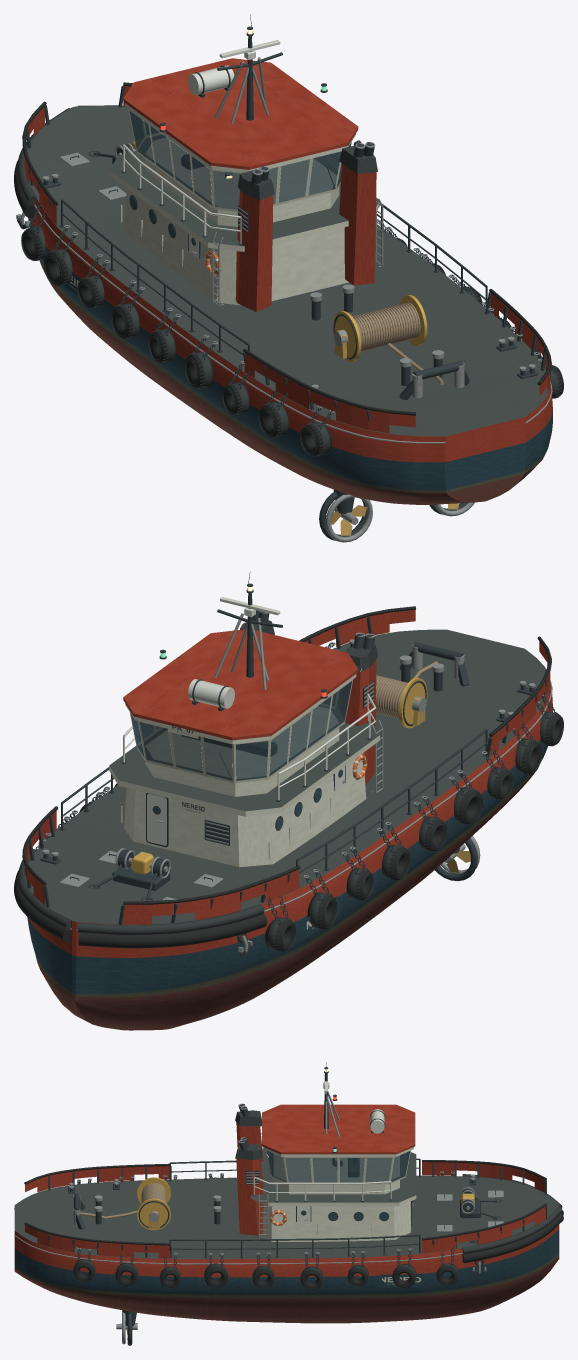
Rendered from tug.glb.
3 views of the same model, one above another, from view 1: azimuth 30°, elevation 25°; view 2: azimuth 150°, elevation 25°; view 3: azimuth 270°, elevation 25° (orthographic). The views are drawn at different scales.
Visible parts, largest first — view 1: tug_assembly; view 2: tug_assembly; view 3: tug_assembly.
Part boxes in pixels (box(x1,y1,x2,y2)): tug_assembly: box(14, 14, 563, 542); tug_assembly: box(14, 571, 563, 1030); tug_assembly: box(14, 1062, 563, 1345).
Bounding box in the file's own units: 9.9 × 13.34 × 24.83.
15 materials, 3 textured.
